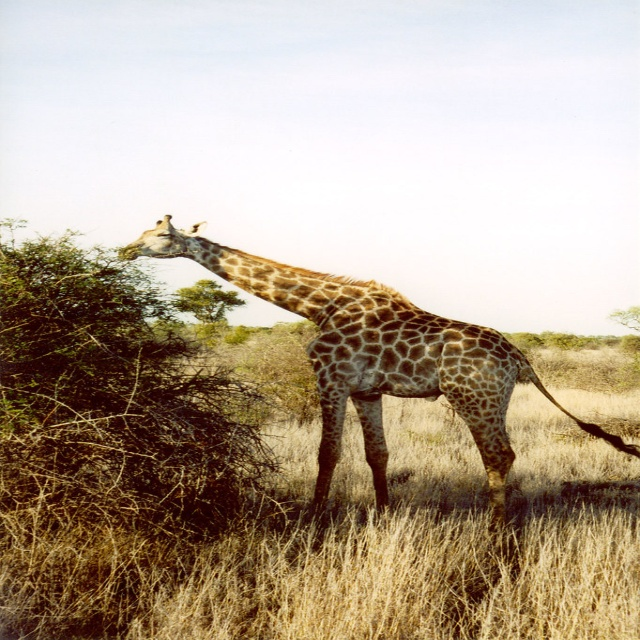Giraffe: (119, 215, 639, 527)
